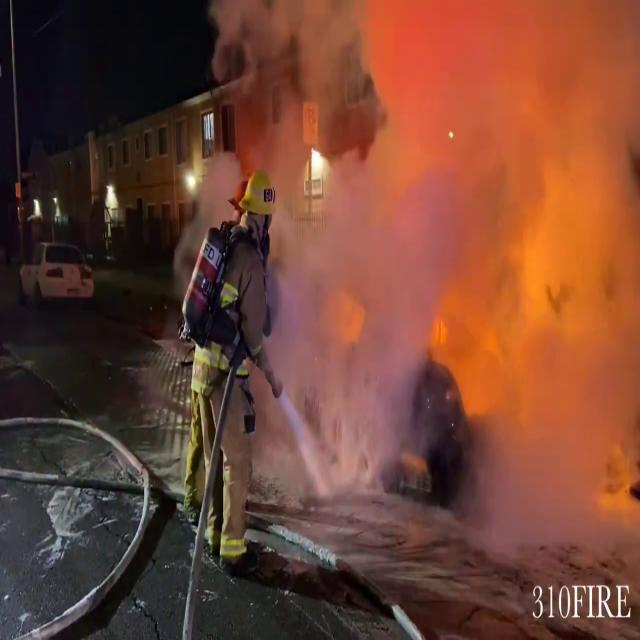Smoke: (195, 0, 640, 542)
